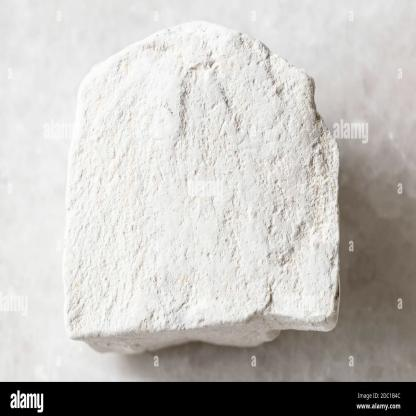Sedimentary_Chalk: (60, 29, 354, 350)
